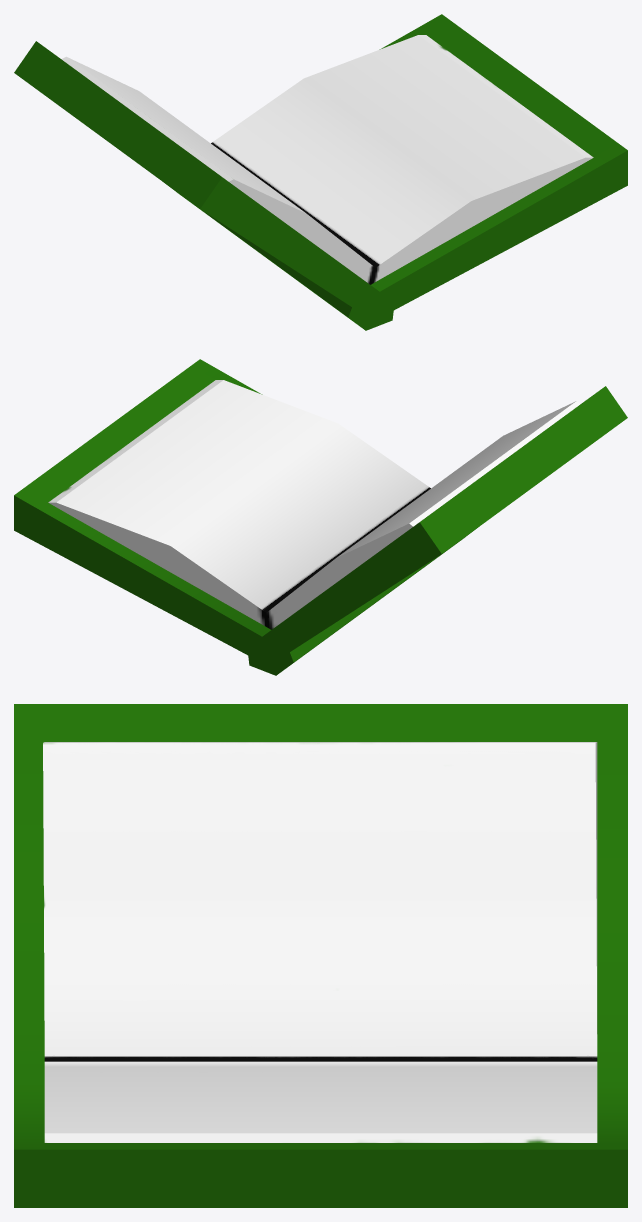
Rendered from Boek_Open_Export.fbx.
3 views of the same model, one above another, from view 1: azimuth 30°, elevation 25°; view 2: azimuth 150°, elevation 25°; view 3: azimuth 270°, elevation 25° (orthographic). The views are drawn at different scales.
Parts seen in each view (by area): view 1: pCube15; view 2: pCube15; view 3: pCube15.
Part boxes in pixels (bbox=[...]): pCube15: bbox=[14, 14, 627, 330]; pCube15: bbox=[14, 359, 627, 675]; pCube15: bbox=[14, 704, 627, 1207].
Size of the model in its own units: 1.98 by 0.8364 by 1.49.
